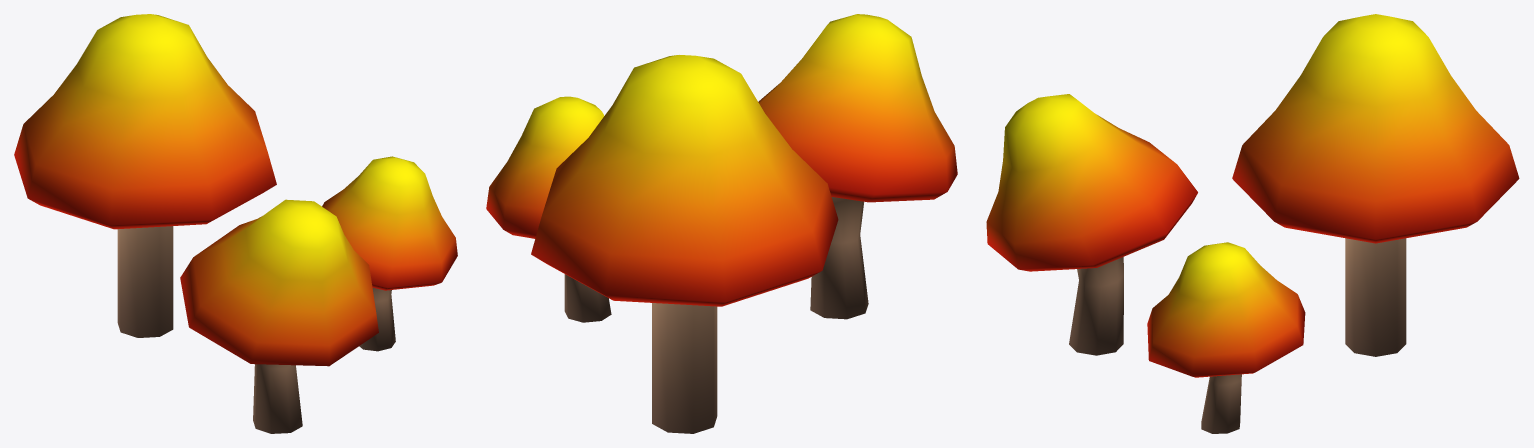
The model's file is red_mushroom.fbx.
3 views of the same model, side by side, from view 1: azimuth 30°, elevation 25°; view 2: azimuth 150°, elevation 25°; view 3: azimuth 270°, elevation 25° (orthographic). The views are drawn at different scales.
Parts seen in each view (by area): view 1: MushrumY1; view 2: MushrumY1; view 3: MushrumY1.
Part boxes in pixels (bbox=[...]): MushrumY1: bbox=[14, 14, 457, 433]; MushrumY1: bbox=[486, 14, 957, 433]; MushrumY1: bbox=[986, 14, 1519, 433].
Bounding box in the file's own units: 131 × 112 × 167.
